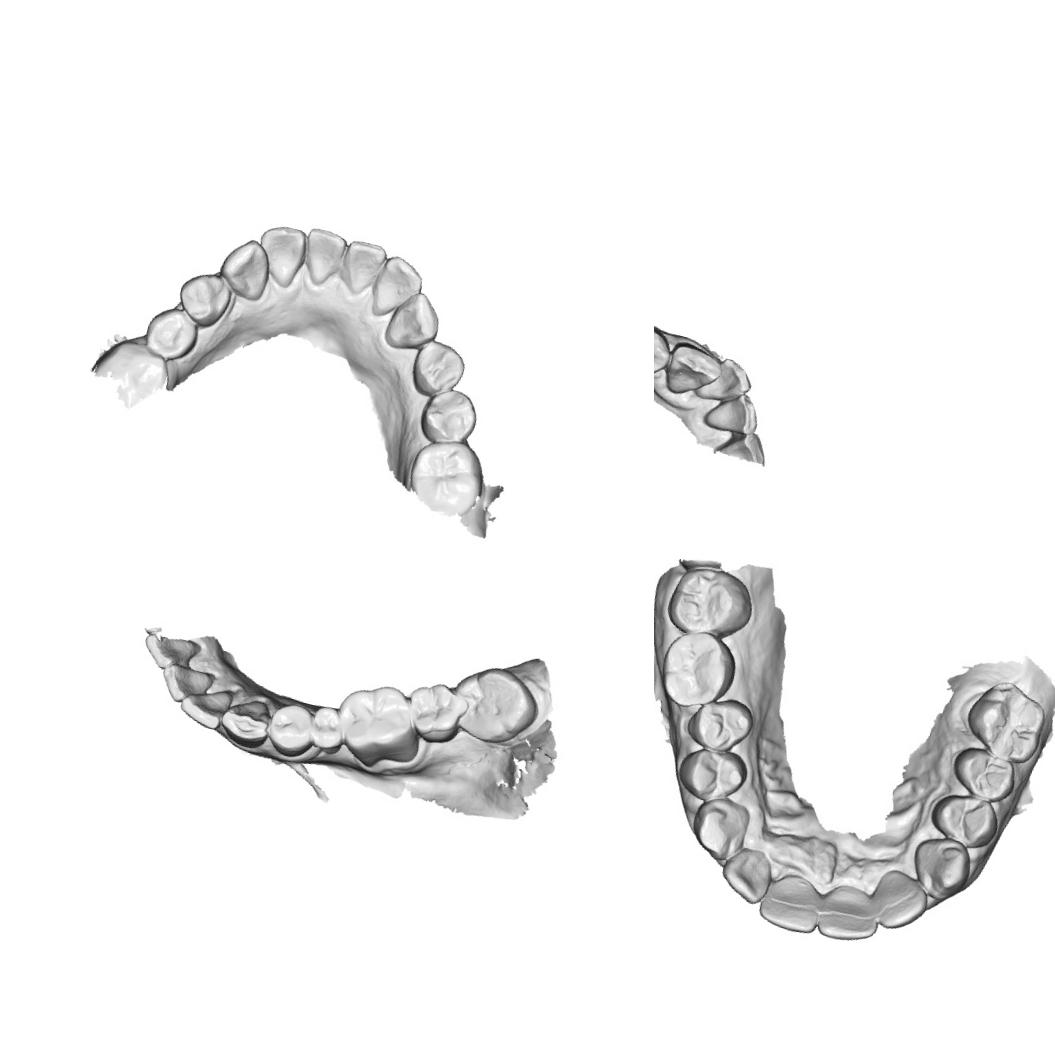canine: (904, 829, 978, 906), (379, 283, 448, 359), (684, 790, 753, 866), (212, 232, 277, 304), (658, 338, 726, 405), (214, 691, 276, 753)
incisor: (810, 877, 884, 949), (754, 866, 827, 937), (866, 864, 934, 937), (249, 218, 312, 292), (366, 250, 428, 324), (714, 842, 776, 907), (694, 350, 758, 410), (699, 383, 765, 440), (334, 235, 390, 300), (174, 677, 237, 734), (154, 656, 219, 710), (296, 224, 350, 288), (136, 628, 202, 678)
molar: (326, 672, 434, 780), (445, 657, 547, 754), (958, 673, 1053, 768), (661, 559, 760, 648), (654, 622, 743, 717), (400, 431, 492, 522), (398, 672, 470, 750)
premolar: (671, 740, 752, 810), (924, 786, 1003, 855), (682, 689, 758, 758), (945, 740, 1022, 808), (414, 382, 484, 450), (404, 334, 471, 404), (139, 300, 205, 366), (170, 266, 235, 331), (261, 696, 318, 760), (302, 698, 350, 754), (654, 316, 675, 384)
